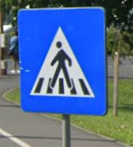trecere_pietoni: (16, 7, 110, 116)
